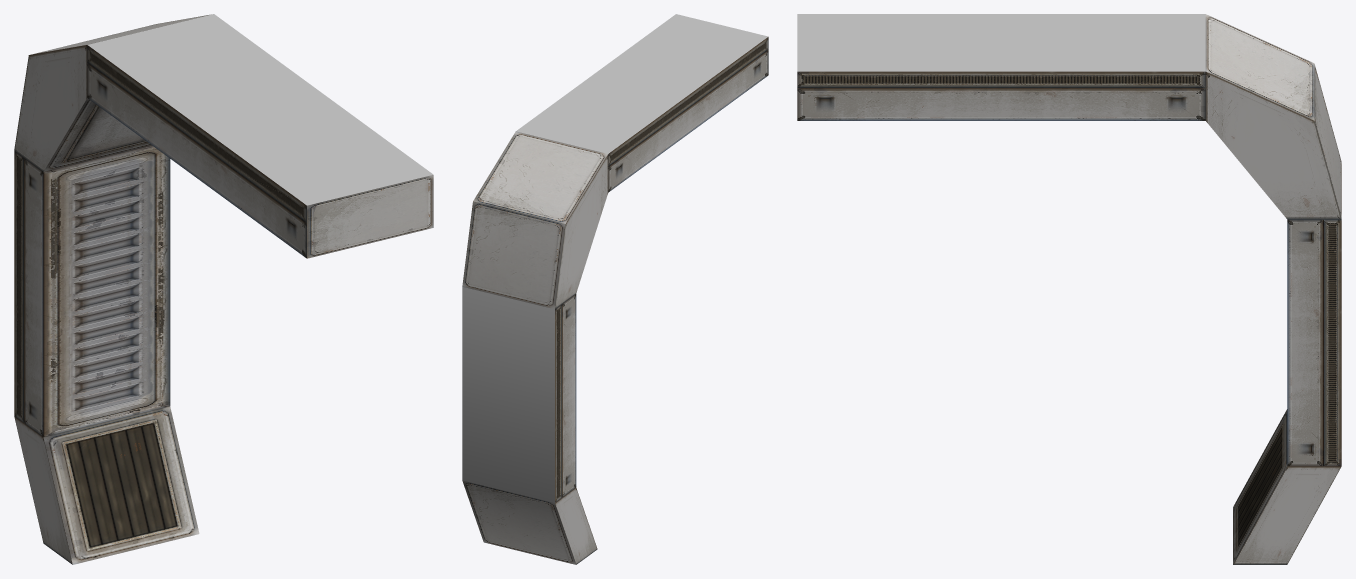
The model's file is scifi_portal2_half.FBX.
3 renders of one model, left to right at view 1: azimuth 30°, elevation 25°; view 2: azimuth 150°, elevation 25°; view 3: azimuth 270°, elevation 25°, orthographic. The views are drawn at different scales.
Parts seen in each view (by area): view 1: Box010; view 2: Box010; view 3: Box010.
Part boxes in pixels (bbox=[...]): Box010: bbox=[14, 14, 433, 564]; Box010: bbox=[462, 14, 768, 564]; Box010: bbox=[797, 14, 1341, 564].
Size of the model in its own units: 127 by 508 by 508.
